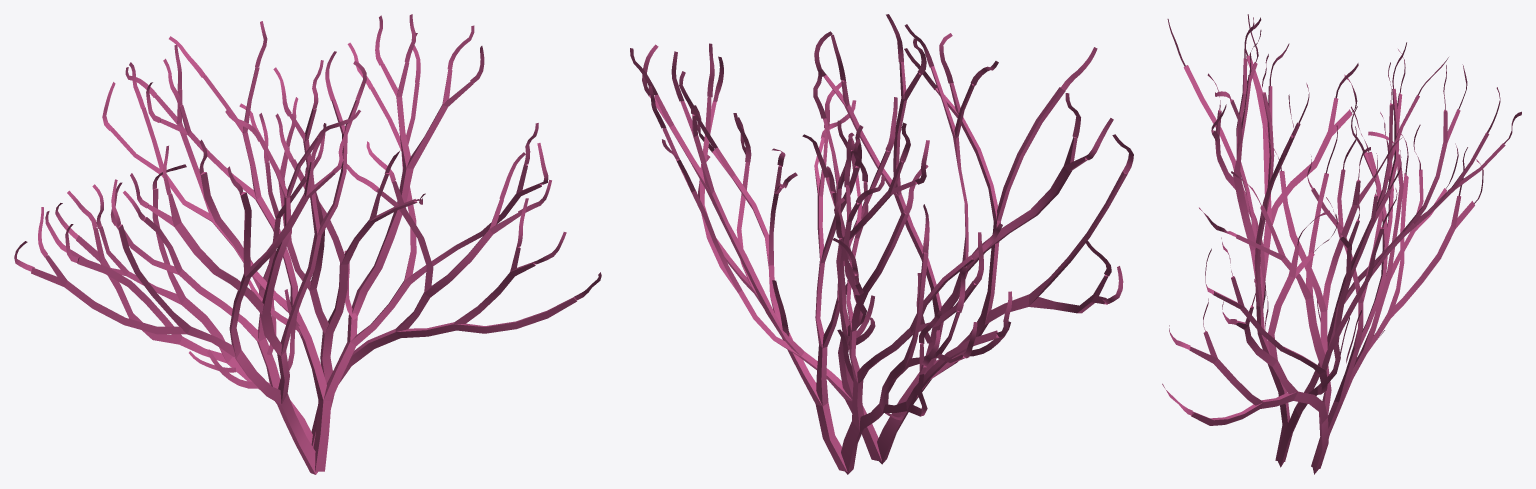
Rendered from coral_B_dense.fbx.
3 renders of one model, left to right at view 1: azimuth 30°, elevation 25°; view 2: azimuth 150°, elevation 25°; view 3: azimuth 270°, elevation 25°, orthographic. The views are drawn at different scales.
Visible parts, largest first — view 1: coral_B_dense_twigs, coral_B_dense_leaves; view 2: coral_B_dense_twigs, coral_B_dense_leaves; view 3: coral_B_dense_twigs, coral_B_dense_leaves.
Boxes of the visible parts, x1,y1,x2,y2 form: coral_B_dense_twigs: (31,62,576,474); coral_B_dense_leaves: (14,14,601,388); coral_B_dense_twigs: (649,62,1127,474); coral_B_dense_leaves: (630,14,1133,420); coral_B_dense_twigs: (1183,55,1505,474); coral_B_dense_leaves: (1162,14,1521,415).
Bounding box in the file's own units: 174 × 142 × 113.
